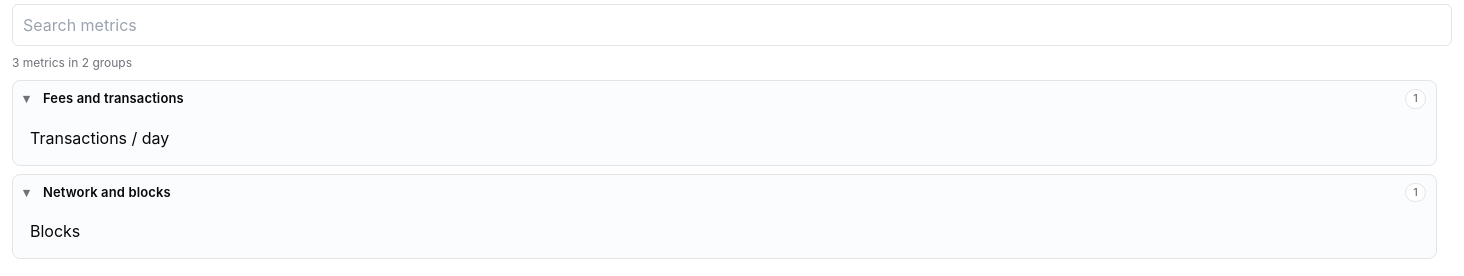
Test: MetricList groups › typing trans narrows 2 groups to 1
The image size is (1464, 276).
Type "trans" into the search field with placeholder "Search metrics" at (732, 25), box [12,4,1452,46]
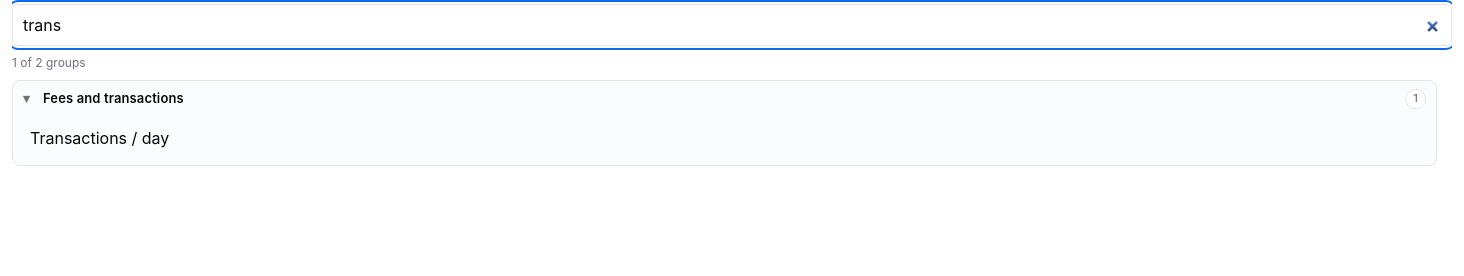
Expected: the button "Transactions / day" is shown, [19,117,1430,159]
Result: the button "blocks" is gone
